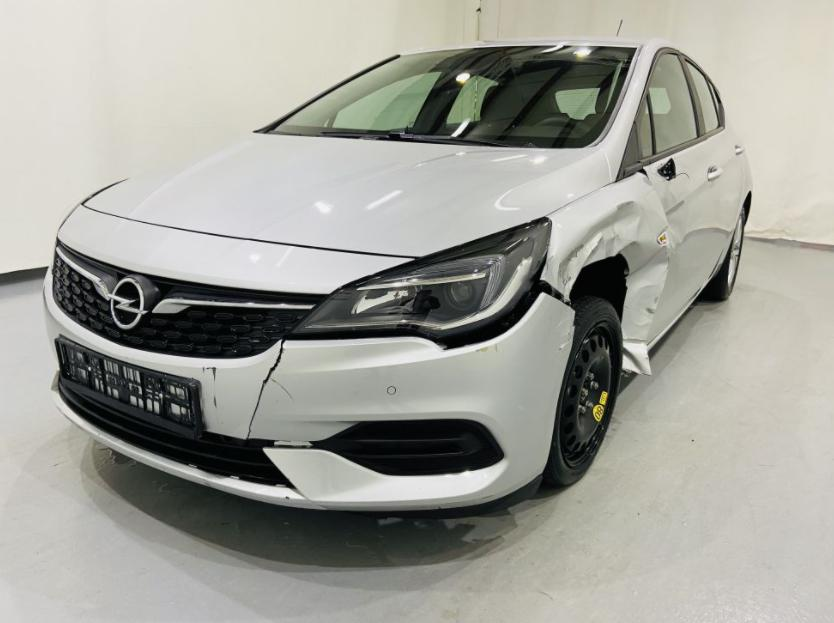Back-door: (683, 55, 755, 229)
Back-wheel: (696, 209, 744, 301)
Back-window: (685, 59, 721, 133)
Fender: (537, 170, 668, 375)
Front-bumper: (44, 267, 577, 509)
Front-door: (636, 49, 735, 355)
Front-wheel: (545, 295, 624, 486)
Front-window: (619, 54, 697, 174)
Grille: (53, 239, 326, 361)
Headlight: (287, 216, 554, 350)
Hood: (57, 132, 612, 295)
License-plate: (54, 334, 202, 429)
Roof: (399, 36, 658, 54)
Windshield: (256, 46, 636, 149)
